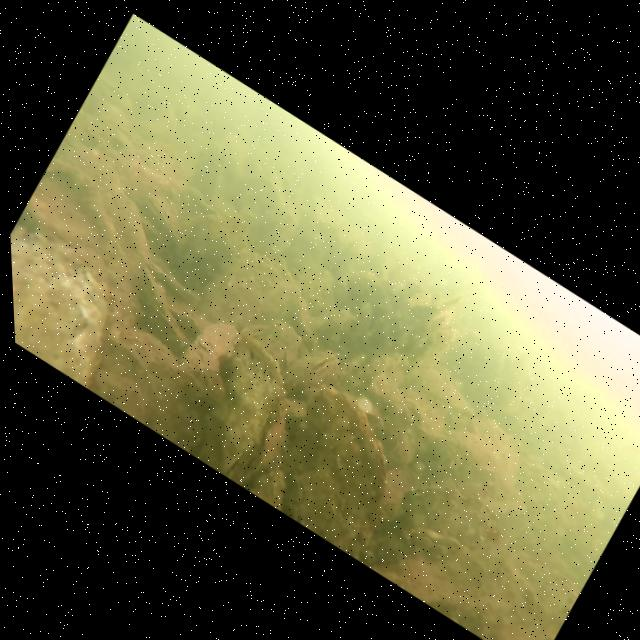Oyster-Closed: (250, 374, 431, 568), (172, 328, 324, 501), (367, 459, 507, 607), (121, 269, 207, 351), (273, 330, 352, 418), (344, 334, 414, 413), (409, 362, 483, 431), (384, 379, 456, 449), (273, 287, 333, 348), (333, 293, 387, 358), (307, 293, 361, 353), (156, 289, 216, 342)
Oyster-Indeterminate: (378, 485, 588, 640), (9, 207, 148, 393), (9, 148, 161, 299), (78, 310, 205, 439), (195, 232, 306, 349), (161, 191, 259, 301), (235, 301, 312, 379), (177, 308, 246, 389)
Oyster-Open: (388, 291, 474, 398), (247, 447, 322, 524), (388, 509, 466, 579), (177, 132, 239, 205), (132, 186, 190, 238)
